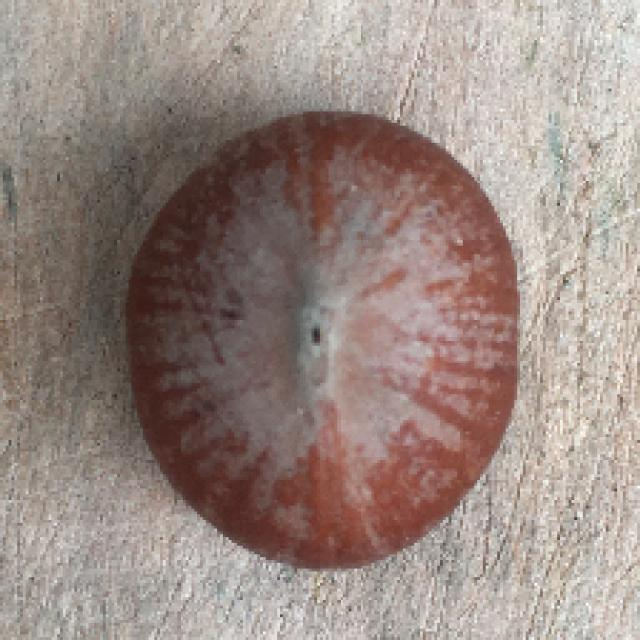qualityHazelnut: (112, 106, 525, 580)
